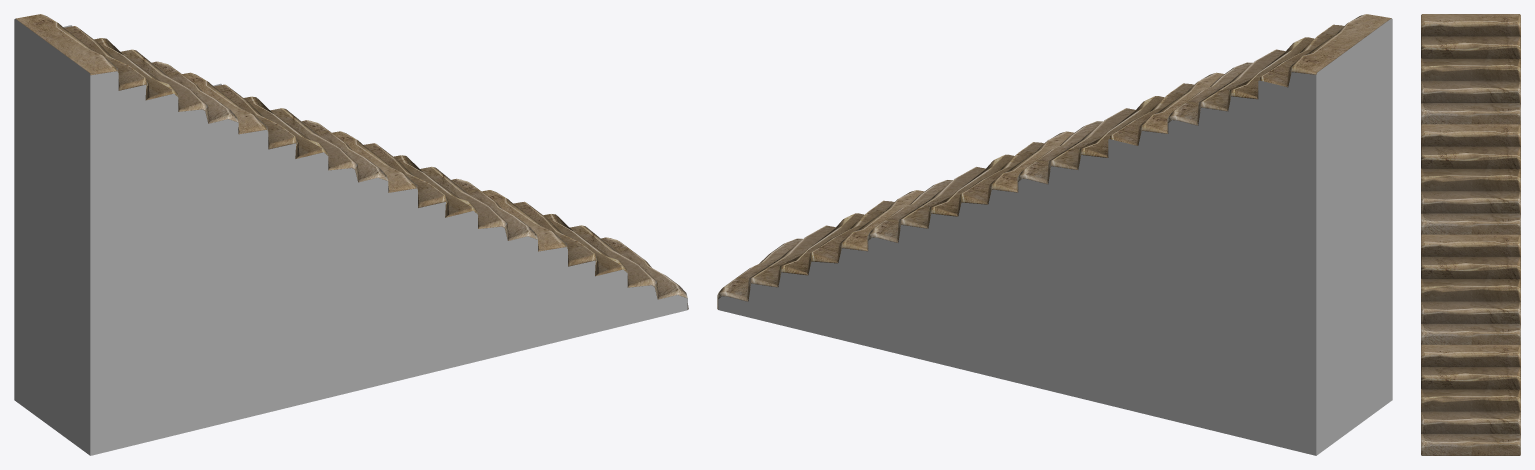
File: lower_city_stair_01.fbx
The picture shows the model from 3 angles, left to right: view 1: azimuth 30°, elevation 25°; view 2: azimuth 150°, elevation 25°; view 3: azimuth 270°, elevation 25°; orthographic projection. The views are drawn at different scales.
Visible parts, largest first — view 1: lower_city_stair_01; view 2: lower_city_stair_01; view 3: lower_city_stair_01.
Part boxes in pixels (x1,y1,x2,y2): lower_city_stair_01: (14,14,688,455); lower_city_stair_01: (717,14,1392,455); lower_city_stair_01: (1421,14,1520,455).
Bounding box in the file's own units: 4.97 × 3.03 × 1.09.
